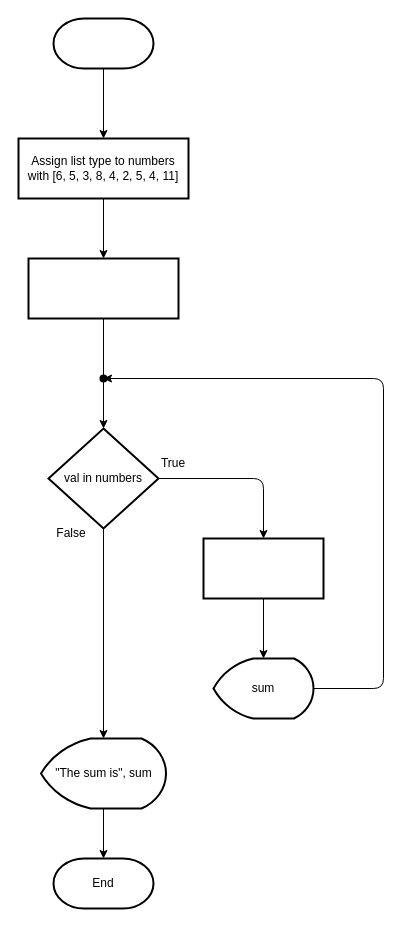
Some shapes in this 409 by 926 pixel diagram are drawn without their labels. The centre of each missing label's shape, as x and y in pixels:
"Assign sum variable to 0" goes at (x=103, y=288).
"Start" goes at (x=103, y=43).
"sum += val" goes at (x=263, y=568).
